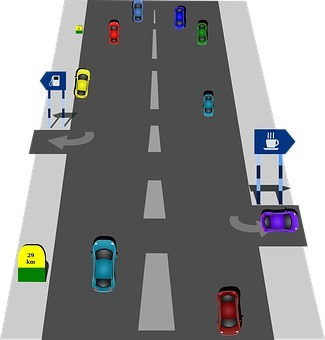car: (86, 234, 118, 299), (214, 287, 245, 336), (256, 208, 303, 235), (72, 66, 92, 100), (199, 90, 218, 119), (172, 4, 189, 32), (195, 20, 211, 47), (107, 20, 122, 46), (129, 1, 146, 23)
